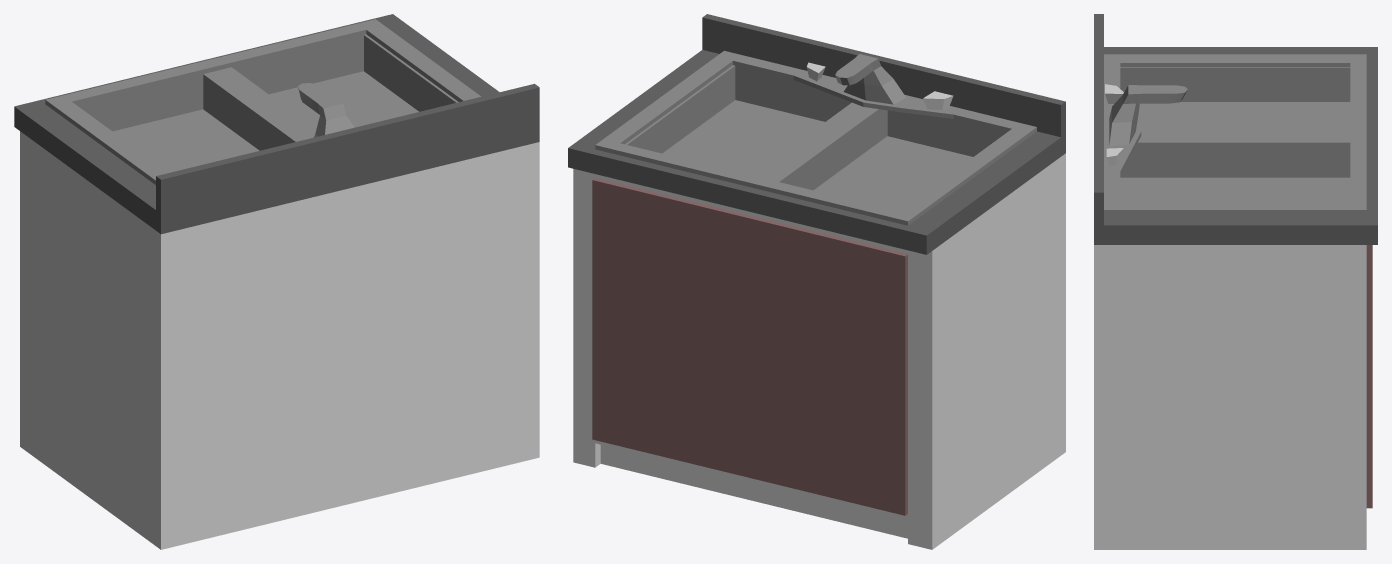
The model's file is ObsSink01.fbx.
3 renders of one model, left to right at view 1: azimuth 30°, elevation 25°; view 2: azimuth 150°, elevation 25°; view 3: azimuth 270°, elevation 25°, orthographic. The views are drawn at different scales.
Visible parts, largest first — view 1: pasted__polySurface6; view 2: pasted__polySurface6; view 3: pasted__polySurface6.
Boxes of the visible parts, bbox=[...] form: pasted__polySurface6: bbox=[14, 14, 539, 549]; pasted__polySurface6: bbox=[568, 14, 1065, 549]; pasted__polySurface6: bbox=[1094, 14, 1377, 549].
Size of the model in its own units: 102 by 98.74 by 68.35.
